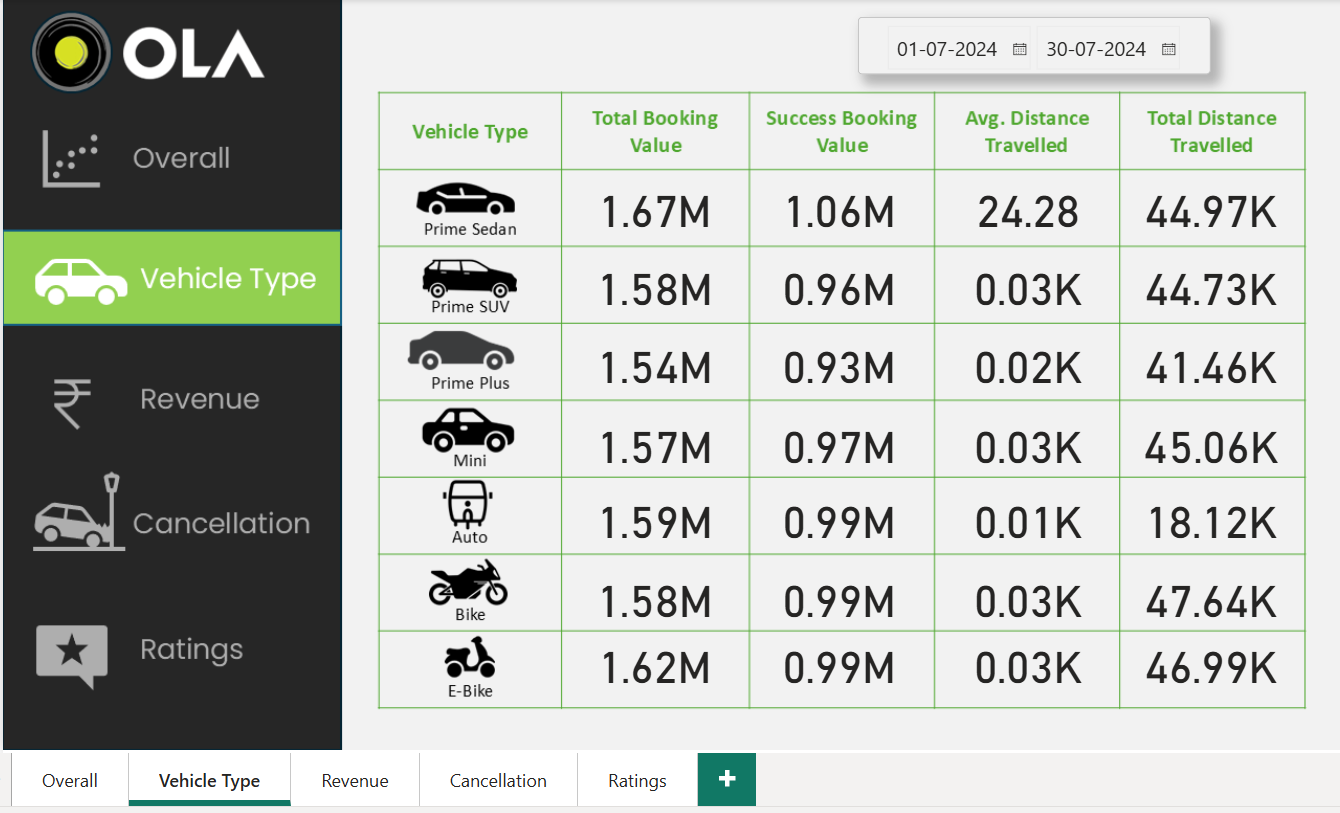

What the dashboard file says about the page in this screenshot:
{"tool":"powerbi","page":{"name":"Vehicle Type","canvas":[1280,720],"ordinal":1},"visuals":[{"type":"actionButton","box":[0,340,326,92],"z":0},{"type":"actionButton","box":[0,448,326,94],"z":1000},{"type":"actionButton","box":[0,580,326,90],"z":2000},{"type":"actionButton","box":[0,98,326,110],"z":3000},{"type":"card","fields":{"Values":["Sum(July.Booking_Value)"]},"box":[549.9,166.3,143.6,64.3],"z":4000},{"type":"card","fields":{"Values":["Sum(July.Booking_Value)"]},"box":[549.9,234.3,143.6,75.6],"z":5000},{"type":"card","fields":{"Values":["Sum(July.Booking_Value)"]},"box":[725.7,309.9,143.6,75.6],"z":6000},{"type":"card","fields":{"Values":["Sum(July.Booking_Value)"]},"box":[549.9,457.3,143.6,75.6],"z":7000},{"type":"card","fields":{"Values":["Sum(July.Booking_Value)"]},"box":[549.9,532.9,143.6,75.6],"z":8000},{"type":"card","fields":{"Values":["Sum(July.Booking_Value)"]},"box":[549.9,595.3,143.6,75.6],"z":9000},{"type":"card","fields":{"Values":["Sum(July.Booking_Value)"]},"box":[549.9,385.5,143.6,75.6],"z":10000},{"type":"card","fields":{"Values":["Sum(July.Booking_Value)"]},"box":[725.7,166.3,143.6,64.3],"z":11000},{"type":"card","fields":{"Values":["Sum(July.Booking_Value)"]},"box":[725.7,234.3,143.6,75.6],"z":12000},{"type":"card","fields":{"Values":["Sum(July.Booking_Value)"]},"box":[549.9,309.9,143.6,75.6],"z":13000},{"type":"card","fields":{"Values":["Sum(July.Booking_Value)"]},"box":[725.7,385.5,143.6,75.6],"z":14000},{"type":"card","fields":{"Values":["Sum(July.Booking_Value)"]},"box":[725.7,457.3,143.6,75.6],"z":15000},{"type":"card","fields":{"Values":["Sum(July.Booking_Value)"]},"box":[725.7,532.9,143.6,75.6],"z":16000},{"type":"card","fields":{"Values":["Sum(July.Booking_Value)"]},"box":[725.7,595.3,143.6,75.6],"z":17000},{"type":"card","fields":{"Values":["Avg(July.Ride_Distance)"]},"box":[907.1,166.3,143.6,64.3],"z":18000},{"type":"card","fields":{"Values":["Avg(July.Ride_Distance)"]},"box":[907.1,234.3,143.6,75.6],"z":19000},{"type":"card","fields":{"Values":["Avg(July.Ride_Distance)"]},"box":[907.1,309.9,143.6,75.6],"z":20000},{"type":"card","fields":{"Values":["Avg(July.Ride_Distance)"]},"box":[907.1,385.5,143.6,75.6],"z":21000},{"type":"card","fields":{"Values":["Avg(July.Ride_Distance)"]},"box":[907.1,457.3,143.6,75.6],"z":22000},{"type":"card","fields":{"Values":["Avg(July.Ride_Distance)"]},"box":[907.1,532.9,143.6,75.6],"z":23000},{"type":"card","fields":{"Values":["Avg(July.Ride_Distance)"]},"box":[907.1,595.3,143.6,75.6],"z":24000},{"type":"card","fields":{"Values":["Sum(July.Ride_Distance)"]},"box":[1081,166.3,143.6,64.3],"z":25000},{"type":"card","fields":{"Values":["Sum(July.Ride_Distance)"]},"box":[1081,234.3,143.6,75.6],"z":26000},{"type":"card","fields":{"Values":["Sum(July.Ride_Distance)"]},"box":[1081,309.9,143.6,75.6],"z":27000},{"type":"card","fields":{"Values":["Sum(July.Ride_Distance)"]},"box":[1081,385.5,143.6,75.6],"z":28000},{"type":"card","fields":{"Values":["Sum(July.Ride_Distance)"]},"box":[1081,457.3,143.6,75.6],"z":29000},{"type":"card","fields":{"Values":["Sum(July.Ride_Distance)"]},"box":[1081,532.9,143.6,75.6],"z":30000},{"type":"card","fields":{"Values":["Sum(July.Ride_Distance)"]},"box":[1081,595.3,143.6,75.6],"z":31000},{"type":"slicer","title":"Date","fields":{"Values":["July.Date"]},"box":[816.4,17,336.4,54.8],"z":32000}]}

Visuals, with their boxes on the page's 1280x720 design canvas (x1, y1, x2, y2). These are canvas units, not pixel positions in the 1340x813 screenshot, which may show the page scaled, cropped or inside an application window:
actionButton: (0, 340, 326, 432)
actionButton: (0, 448, 326, 542)
actionButton: (0, 580, 326, 670)
actionButton: (0, 98, 326, 208)
card - Sum(July.Booking_Value): (550, 166, 694, 231)
card - Sum(July.Booking_Value): (550, 234, 694, 310)
card - Sum(July.Booking_Value): (726, 310, 869, 386)
card - Sum(July.Booking_Value): (550, 457, 694, 533)
card - Sum(July.Booking_Value): (550, 533, 694, 608)
card - Sum(July.Booking_Value): (550, 595, 694, 671)
card - Sum(July.Booking_Value): (550, 386, 694, 461)
card - Sum(July.Booking_Value): (726, 166, 869, 231)
card - Sum(July.Booking_Value): (726, 234, 869, 310)
card - Sum(July.Booking_Value): (550, 310, 694, 386)
card - Sum(July.Booking_Value): (726, 386, 869, 461)
card - Sum(July.Booking_Value): (726, 457, 869, 533)
card - Sum(July.Booking_Value): (726, 533, 869, 608)
card - Sum(July.Booking_Value): (726, 595, 869, 671)
card - Avg(July.Ride_Distance): (907, 166, 1051, 231)
card - Avg(July.Ride_Distance): (907, 234, 1051, 310)
card - Avg(July.Ride_Distance): (907, 310, 1051, 386)
card - Avg(July.Ride_Distance): (907, 386, 1051, 461)
card - Avg(July.Ride_Distance): (907, 457, 1051, 533)
card - Avg(July.Ride_Distance): (907, 533, 1051, 608)
card - Avg(July.Ride_Distance): (907, 595, 1051, 671)
card - Sum(July.Ride_Distance): (1081, 166, 1225, 231)
card - Sum(July.Ride_Distance): (1081, 234, 1225, 310)
card - Sum(July.Ride_Distance): (1081, 310, 1225, 386)
card - Sum(July.Ride_Distance): (1081, 386, 1225, 461)
card - Sum(July.Ride_Distance): (1081, 457, 1225, 533)
card - Sum(July.Ride_Distance): (1081, 533, 1225, 608)
card - Sum(July.Ride_Distance): (1081, 595, 1225, 671)
"Date" slicer: (816, 17, 1153, 72)
